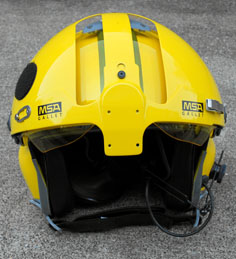helmet: (13, 15, 233, 162)
